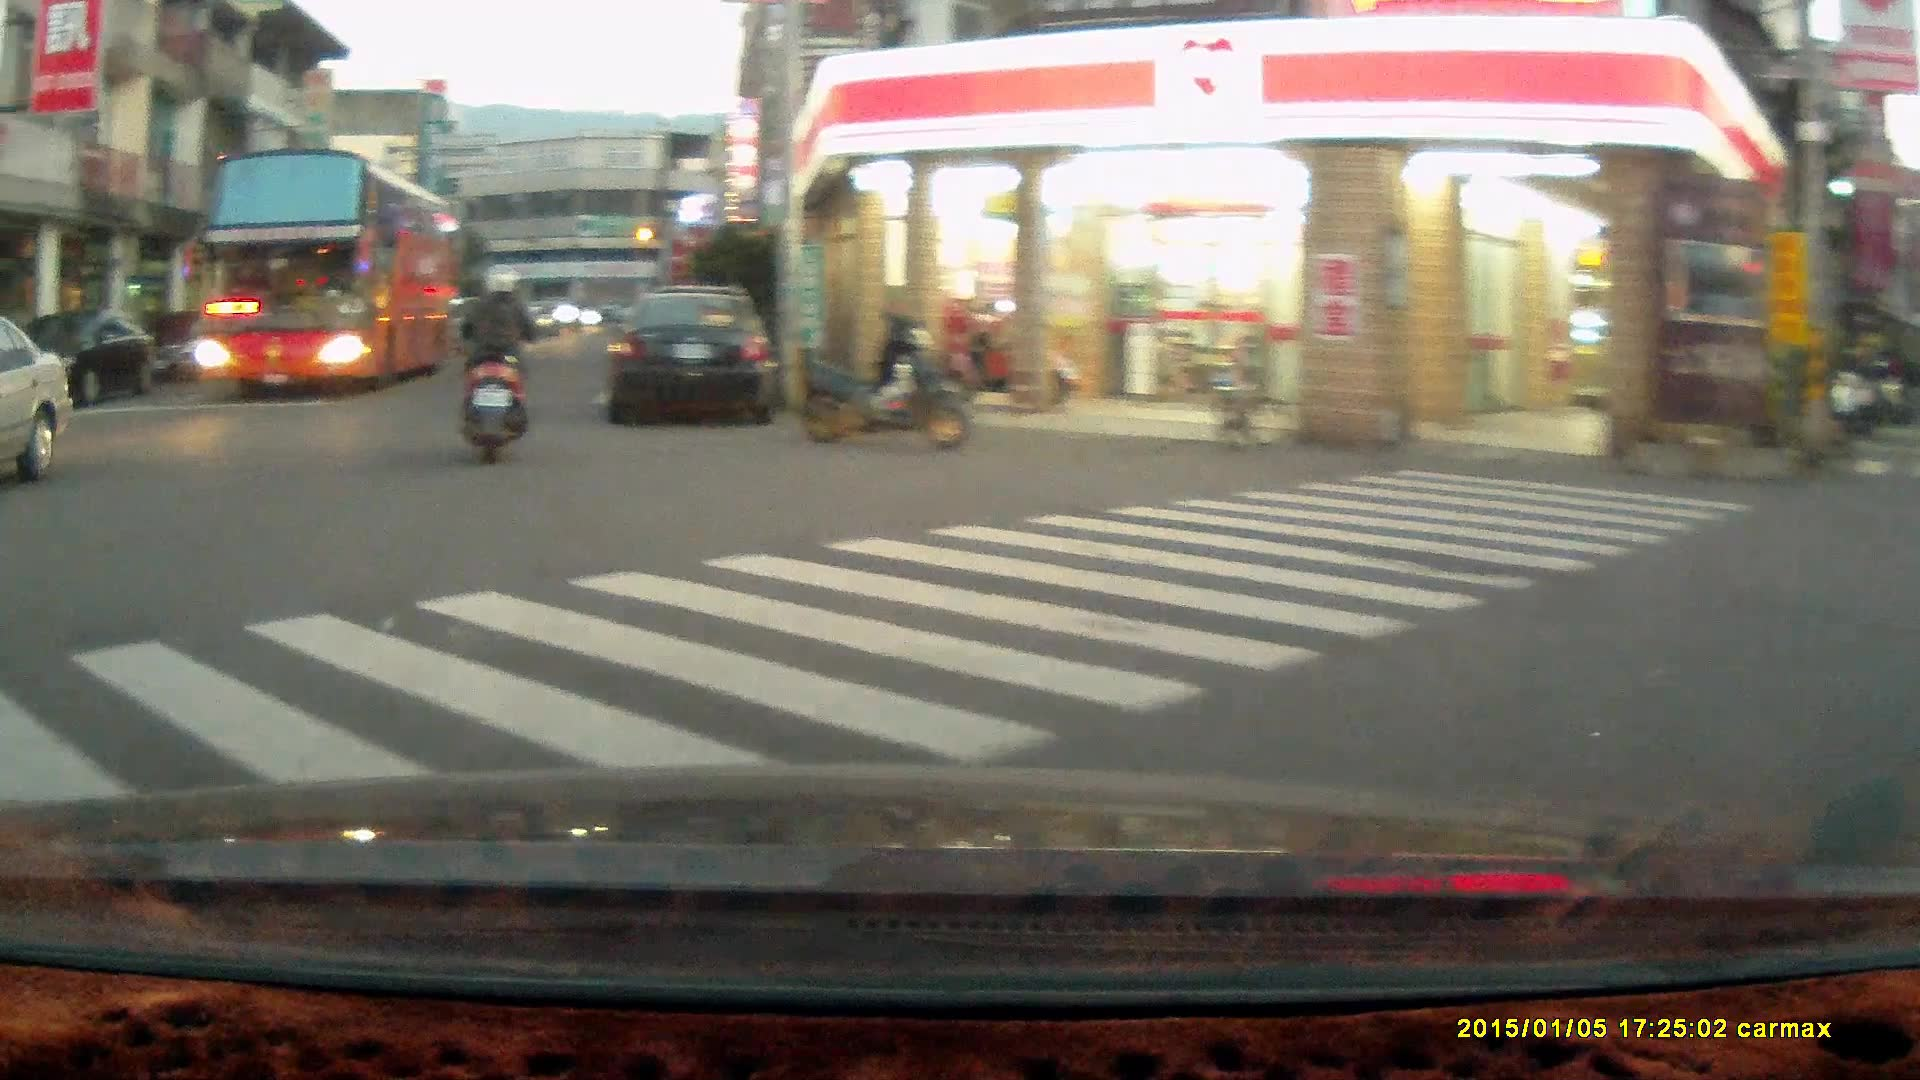rider: (448, 261, 540, 466)
vehicle: (196, 147, 472, 399), (604, 288, 784, 427), (7, 313, 157, 409)
